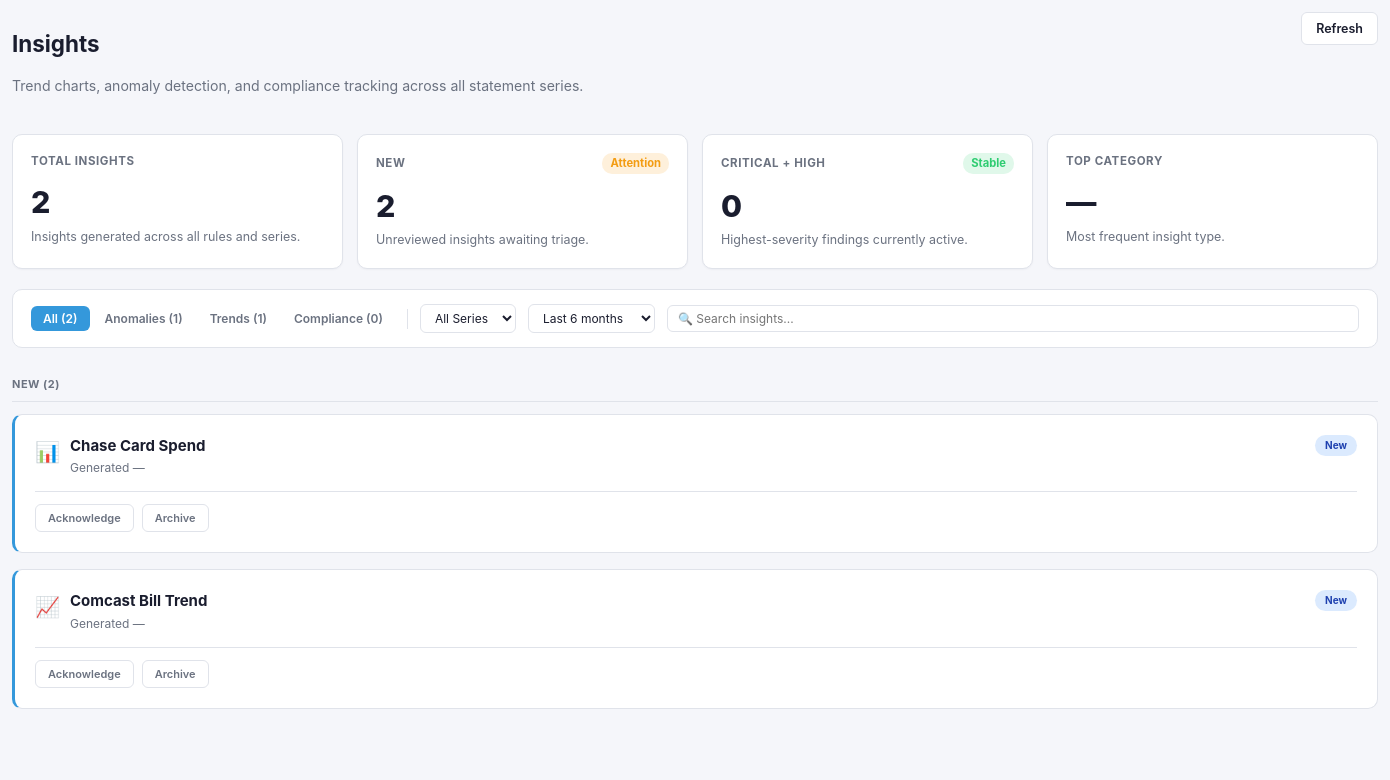
Test case: Insights page component › filters by search text
Expected: the text "Chase Card Spend" is shown, [70,436,206,454]
Type "comcast" into the field with placeholder "🔍 Search insights..." at (1013, 318), box [667,305,1359,332]
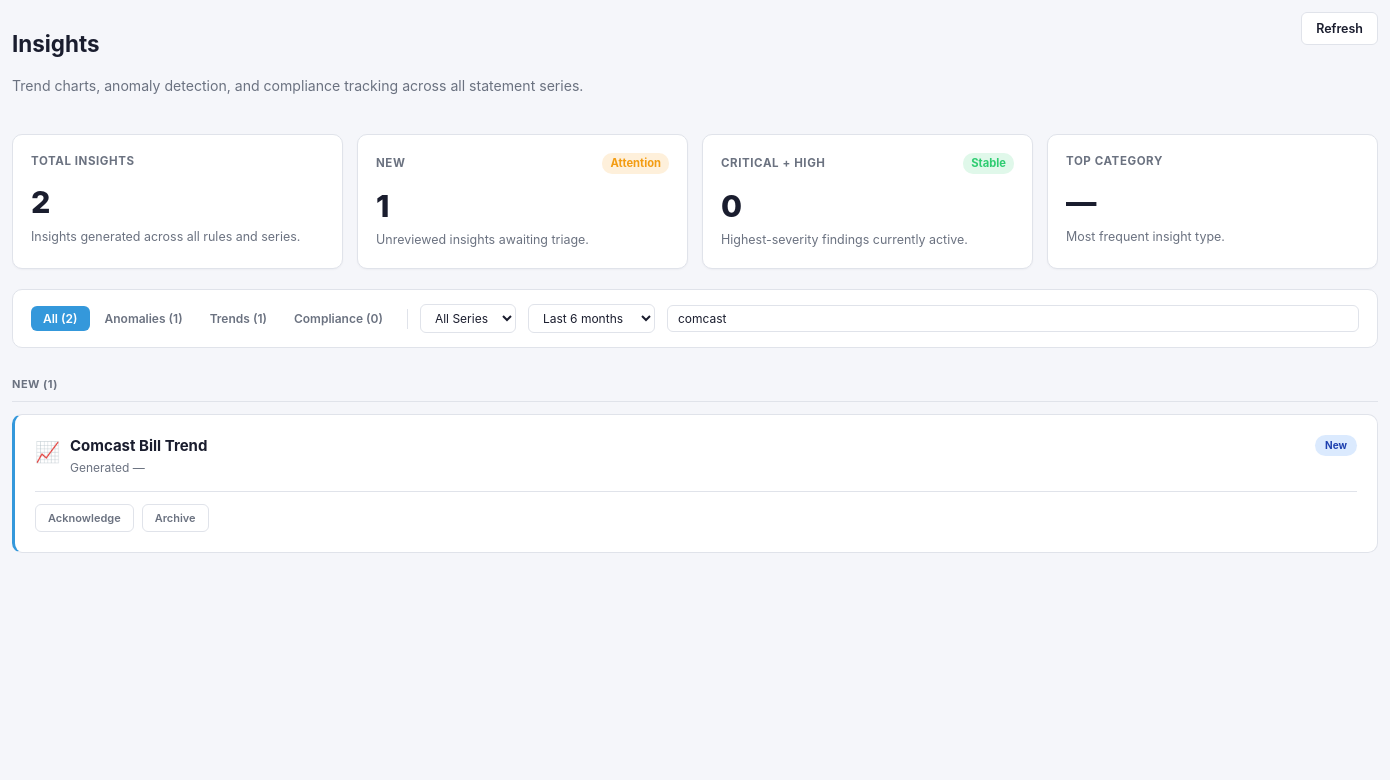
Expected: the text "Comcast Bill Trend" is shown, [70,436,207,454]
Result: the text "Chase Card Spend" is gone
